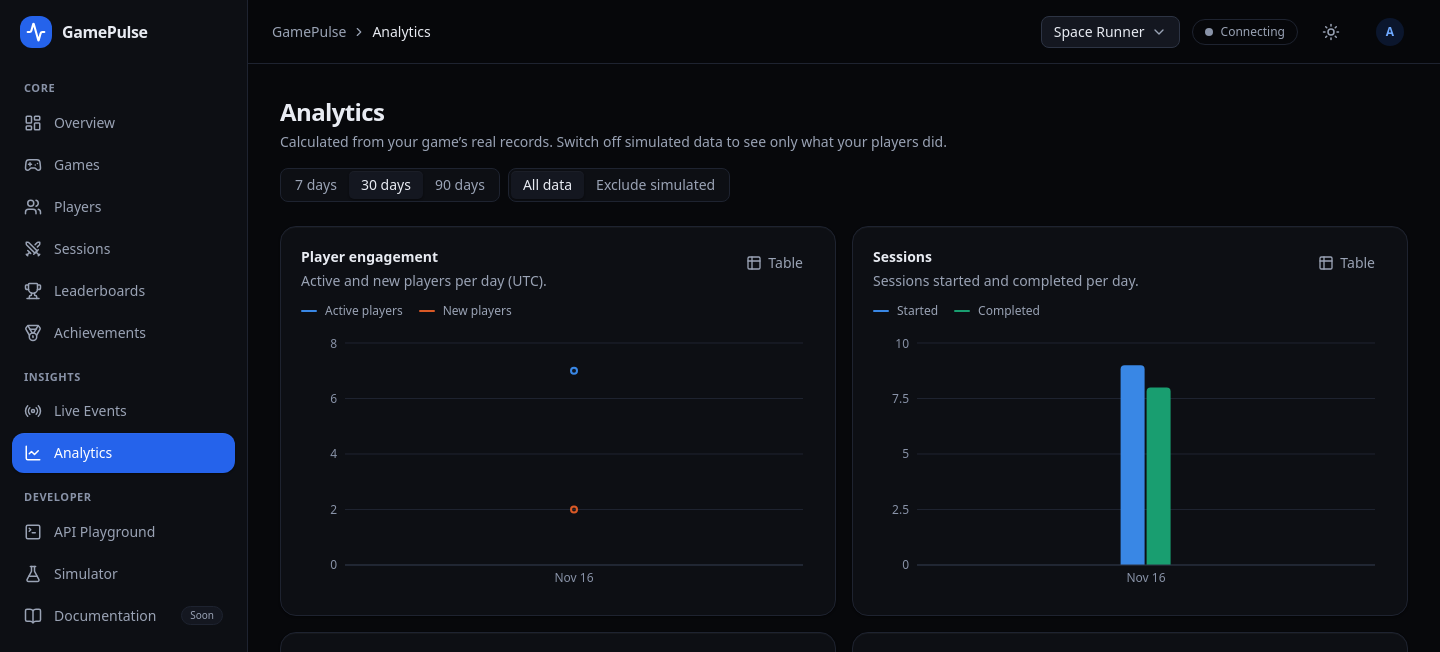
Test: Analytics page › reveals a chart’s exact values in a table
The width and height of the screenshot is (1440, 652).
Click the button "Table" in the row of "Active and new players per day (UTC)." at point(775, 263), box x1=734 y1=247 x2=815 y2=279
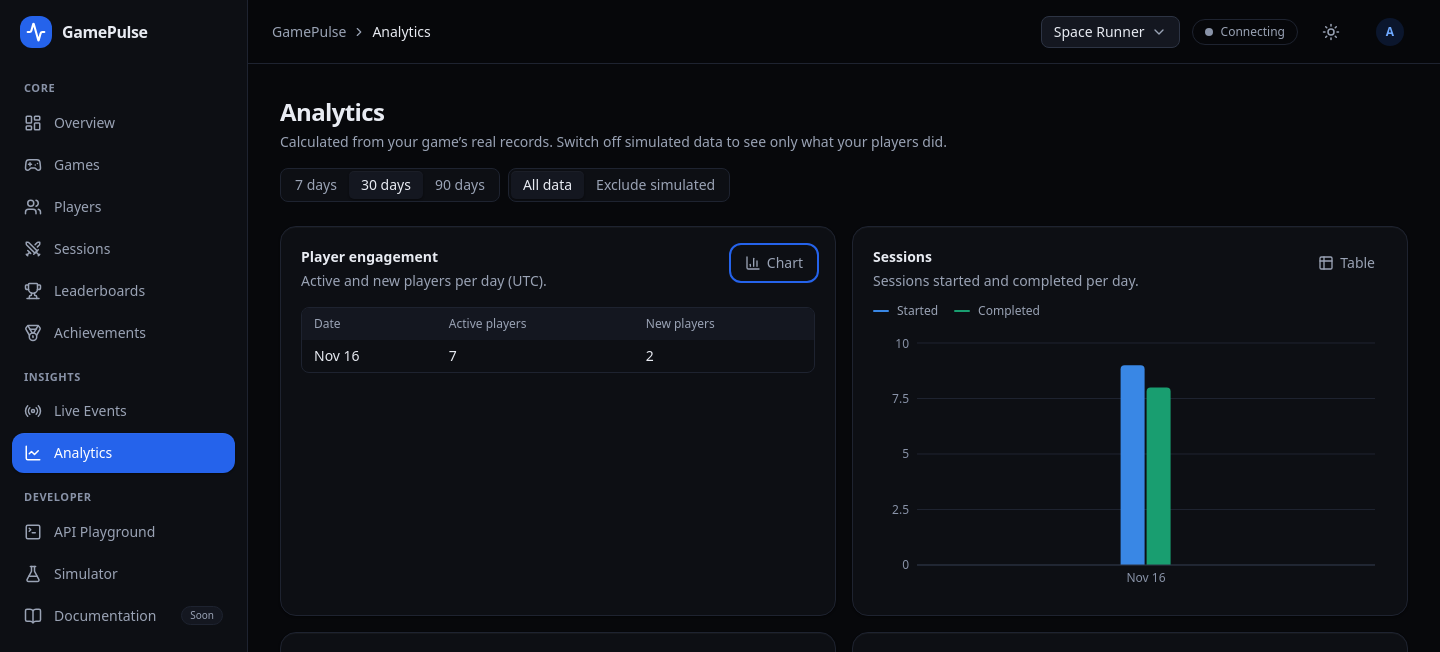
Now the text "7" is shown, box x1=437 y1=340 x2=634 y2=372
